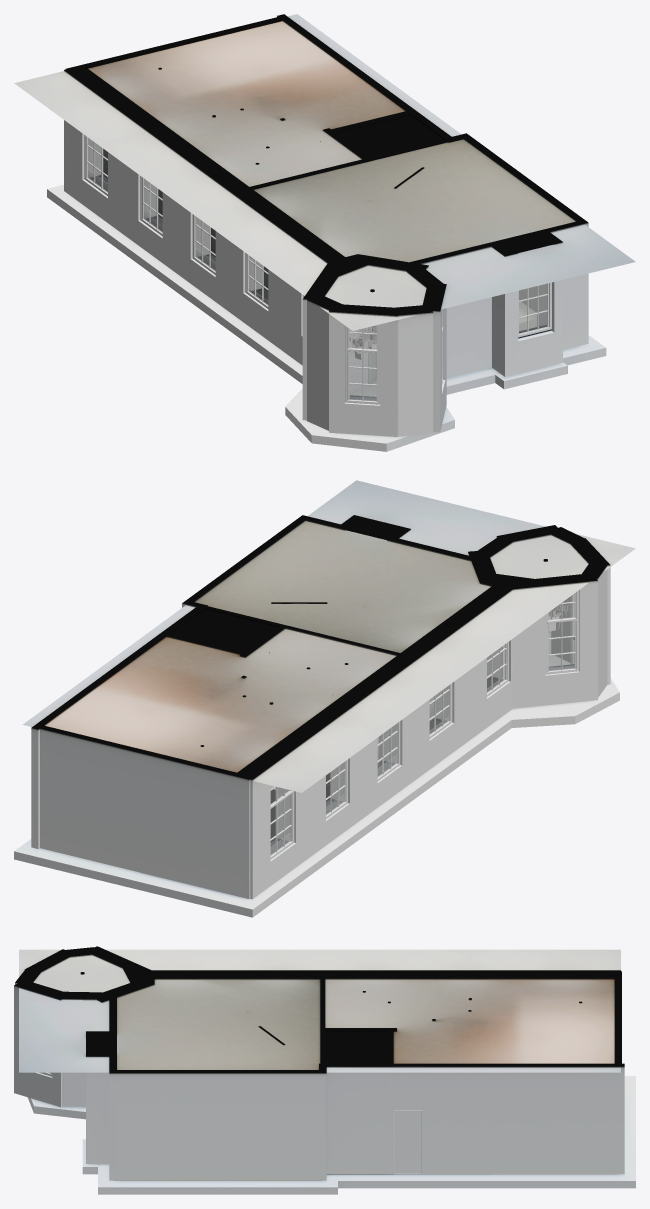
Rendered from walls-phone.glb.
3 views of the same model, one above another, from view 1: azimuth 30°, elevation 25°; view 2: azimuth 150°, elevation 25°; view 3: azimuth 270°, elevation 25° (orthographic). The views are drawn at different scales.
Visible parts, largest first — view 1: realism__roof_kept, shell__plinth, studio__table_alcove_east, wall__W-corner-s_0_0, wall__W-south_0_2, wall__W-west_0_3, wall__W-west_0_12, wall__W-west_0_9, wall__W-corner-c_0_0, wall__W-west_0_6, wall__W-west_0_0, window__W-corner-sw_0_2_B_pbr (+31 smaller); view 2: realism__roof_kept, wall__W-top_0_0, shell__plinth, LowWall__wall__W-top_0_0, wall__W-west_0_3, wall__W-west_0_6, wall__W-west_0_12, wall__W-corner_0_0, wall__W-west_0_9, wall__W-corner_0_3, wall__W-west_0_0, wall__W-east_0_0 (+24 smaller); view 3: realism__roof_kept, wall__W-east_2_0, wall__W-east_0_0, shell__plinth, LowWall__wall__W-east_2_0, LowWall__wall__W-east_0_0, wall__W-east_0_2, studio__table_alcove_east, LowWall__wall__W-east_0_2, hallway__closer_arm, wall__W-east_0_1, wall__W-corner-e_0_0 (+15 smaller).
Part boxes in pixels (x1,y1,x2,y2): realism__roof_kept: (14, 14, 635, 330); shell__plinth: (47, 185, 606, 451); studio__table_alcove_east: (492, 232, 567, 389); wall__W-corner-s_0_0: (393, 304, 433, 436); wall__W-south_0_2: (410, 241, 498, 377); wall__W-west_0_3: (108, 97, 156, 244); wall__W-west_0_12: (268, 215, 319, 363); wall__W-west_0_9: (215, 176, 261, 320); wall__W-corner-c_0_0: (307, 294, 344, 429); wall__W-west_0_6: (162, 137, 209, 282); wall__W-west_0_0: (64, 65, 101, 202); window__W-corner-sw_0_2_B_pbr: (349, 325, 376, 401); realism__roof_kept: (22, 480, 635, 792); wall__W-top_0_0: (40, 725, 252, 898); shell__plinth: (14, 678, 619, 917); LowWall__wall__W-top_0_0: (40, 813, 250, 898); wall__W-west_0_3: (277, 721, 325, 865); wall__W-west_0_6: (331, 684, 377, 826); wall__W-west_0_12: (436, 604, 486, 750); wall__W-corner_0_0: (500, 578, 545, 708); wall__W-west_0_9: (383, 646, 429, 785); wall__W-corner_0_3: (576, 573, 597, 701); wall__W-west_0_0: (237, 762, 270, 898); wall__W-east_0_0: (31, 646, 150, 848); realism__roof_kept: (19, 949, 620, 1072); wall__W-east_2_0: (109, 1070, 326, 1180); wall__W-east_0_0: (422, 1063, 624, 1174); shell__plinth: (27, 1076, 635, 1194); LowWall__wall__W-east_2_0: (109, 1149, 326, 1180); LowWall__wall__W-east_0_0: (422, 1142, 624, 1174); wall__W-east_0_2: (321, 1063, 393, 1174); studio__table_alcove_east: (82, 1031, 116, 1174); LowWall__wall__W-east_0_2: (326, 1142, 393, 1174); hallway__closer_arm: (393, 1110, 422, 1174); wall__W-east_0_1: (393, 1063, 422, 1110); wall__W-corner-e_0_0: (60, 991, 101, 1106).
Size of the model in its own units: 9.48 by 3.83 by 18.51.
46 materials, 22 textured.
